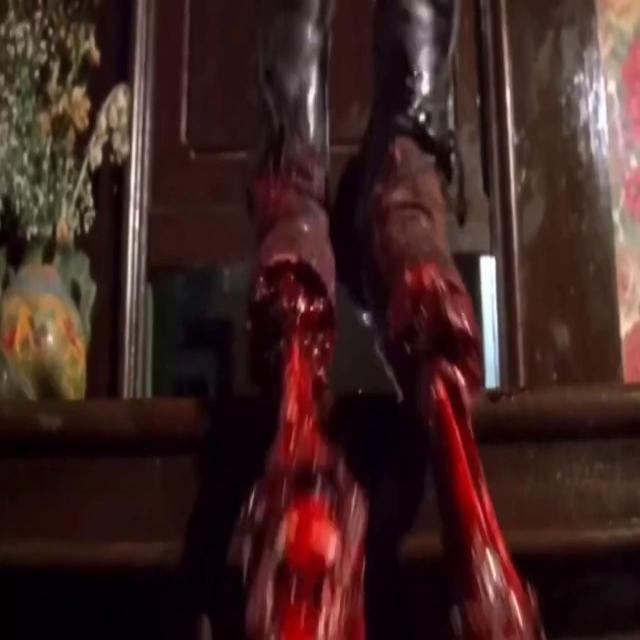flood: (398, 279, 546, 640), (257, 288, 363, 640)
